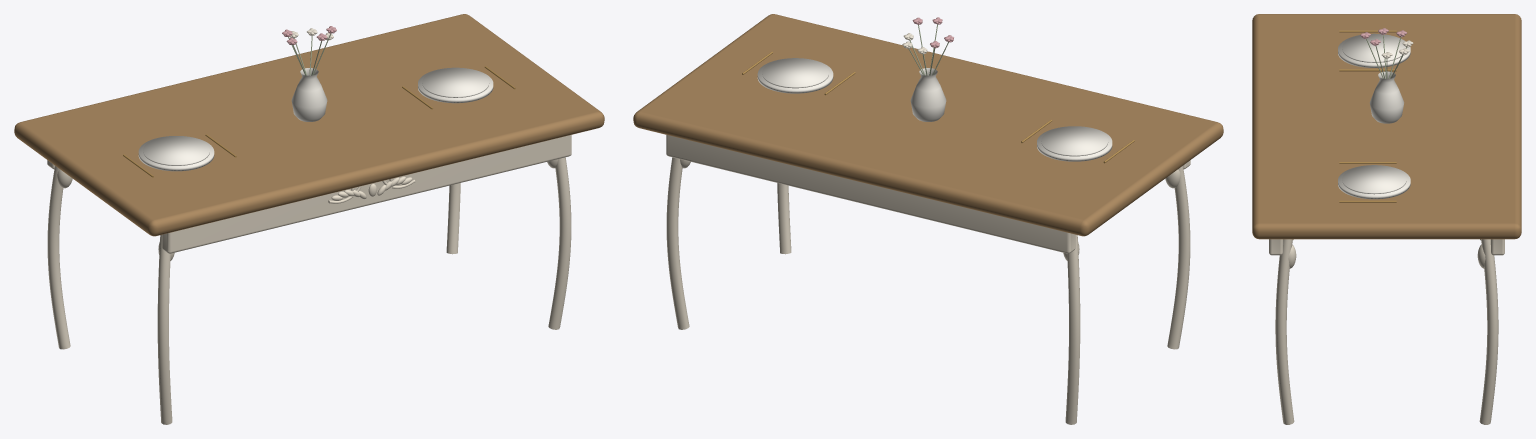
Rendered from dining.glb.
The picture shows the model from 3 angles, left to right: view 1: azimuth 30°, elevation 25°; view 2: azimuth 150°, elevation 25°; view 3: azimuth 270°, elevation 25°; orthographic projection. The views are drawn at different scales.
Visible parts, largest first — view 1: dining__Honey ash exposed edges, dining__Warm aged ivory lacquer, dining__Glazed ivory ceramic; view 2: dining__Honey ash exposed edges, dining__Warm aged ivory lacquer, dining__Glazed ivory ceramic; view 3: dining__Honey ash exposed edges, dining__Glazed ivory ceramic, dining__Warm aged ivory lacquer, dining__Antique brass, dining__Sage linen.
Part boxes in pixels (x1=…): dining__Honey ash exposed edges: x1=14, y1=14, x2=604, y2=236; dining__Warm aged ivory lacquer: x1=47, y1=135, x2=571, y2=424; dining__Glazed ivory ceramic: x1=138, y1=67, x2=493, y2=171; dining__Honey ash exposed edges: x1=633, y1=14, x2=1223, y2=236; dining__Warm aged ivory lacquer: x1=666, y1=135, x2=1190, y2=424; dining__Glazed ivory ceramic: x1=757, y1=58, x2=1112, y2=161; dining__Honey ash exposed edges: x1=1252, y1=14, x2=1521, y2=239; dining__Glazed ivory ceramic: x1=1338, y1=33, x2=1410, y2=199; dining__Warm aged ivory lacquer: x1=1269, y1=239, x2=1504, y2=424; dining__Antique brass: x1=1339, y1=30, x2=1396, y2=202; dining__Sage linen: x1=1366, y1=35, x2=1406, y2=78.
Bounding box in the file's own units: 1.6 × 1.04 × 0.85.
